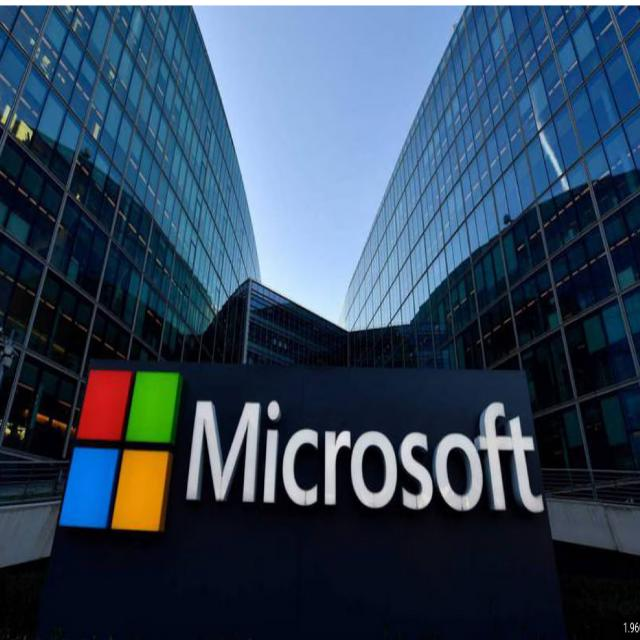microsoft: (56, 369, 182, 534)
microsoft_txt: (183, 397, 547, 516)
